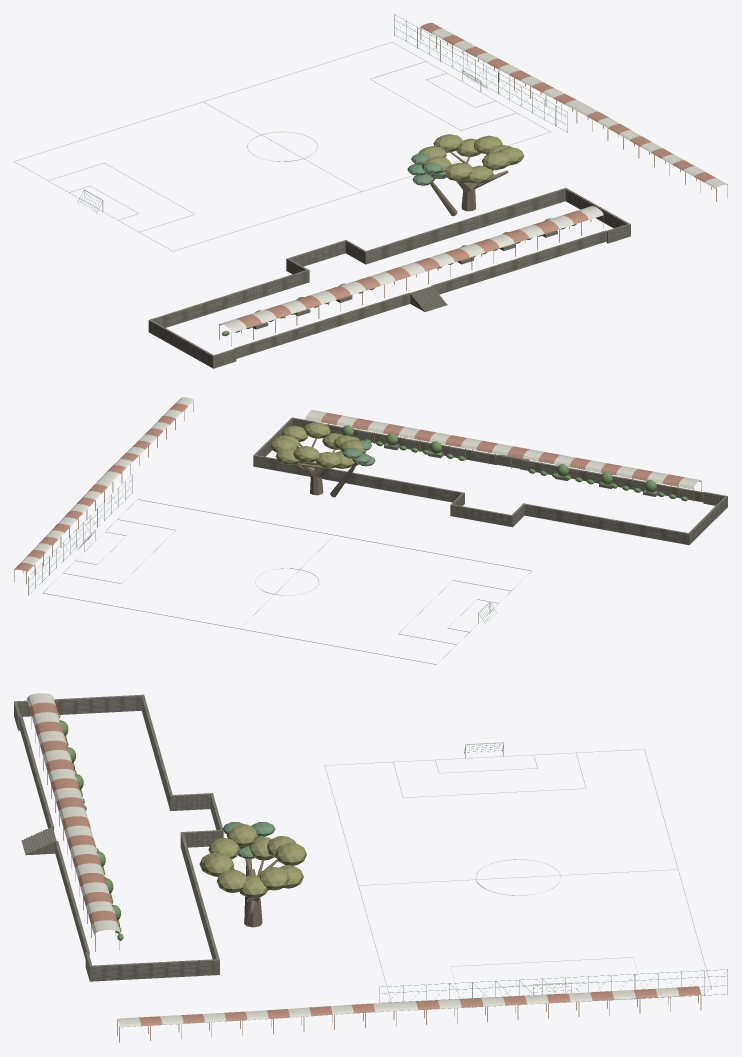
3 renders of one model, top to bottom at view 1: azimuth 30°, elevation 25°; view 2: azimuth 150°, elevation 25°; view 3: azimuth 270°, elevation 25°, orthographic. The views are drawn at different scales.
Parts seen in each view (by area): view 1: main-front-stone-retaining-wall, main-striped-canopy, protected-zelkova-and-leaning-pine, soccer-field-markings, east-covered-walk-2, east-covered-walk-1, soccer-east-ball-fence; view 2: main-front-stone-retaining-wall, main-striped-canopy, protected-zelkova-and-leaning-pine, soccer-field-markings, east-covered-walk-2, east-covered-walk-1, main-front-raised-planters, soccer-east-ball-fence, main-front-clipped-hedges; view 3: main-front-stone-retaining-wall, main-striped-canopy, protected-zelkova-and-leaning-pine, east-covered-walk-2, east-covered-walk-1, soccer-field-markings, soccer-east-ball-fence, main-front-raised-planters.
Boxes of the visible parts, x1,y1,x2,y2 form: main-front-stone-retaining-wall: (148, 188, 630, 368); main-striped-canopy: (219, 206, 603, 346); protected-zelkova-and-leaning-pine: (407, 134, 523, 216); soccer-field-markings: (14, 42, 550, 251); east-covered-walk-2: (420, 22, 587, 123); east-covered-walk-1: (576, 105, 727, 201); soccer-east-ball-fence: (394, 14, 567, 132); main-front-stone-retaining-wall: (253, 417, 727, 545); main-striped-canopy: (305, 410, 701, 501); protected-zelkova-and-leaning-pine: (270, 422, 375, 497); soccer-field-markings: (43, 499, 531, 664); east-covered-walk-2: (14, 477, 113, 584); east-covered-walk-1: (101, 397, 194, 492); main-front-raised-planters: (342, 425, 658, 496); soccer-east-ball-fence: (28, 474, 132, 595); main-front-clipped-hedges: (330, 433, 687, 501); main-front-stone-retaining-wall: (14, 694, 223, 981); main-striped-canopy: (26, 693, 120, 951); protected-zelkova-and-leaning-pine: (199, 822, 306, 927); east-covered-walk-2: (393, 986, 701, 1024); east-covered-walk-1: (117, 1002, 396, 1042); soccer-field-markings: (324, 749, 711, 1001); soccer-east-ball-fence: (379, 969, 727, 1012); main-front-raised-planters: (59, 720, 120, 926).
Size of the model in its own units: 113 by 12.04 by 101.
11 materials, 1 textured.
